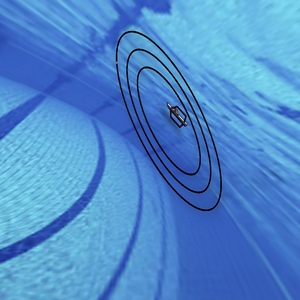circle: (99, 19, 238, 226)
submarine: (155, 93, 191, 134)
